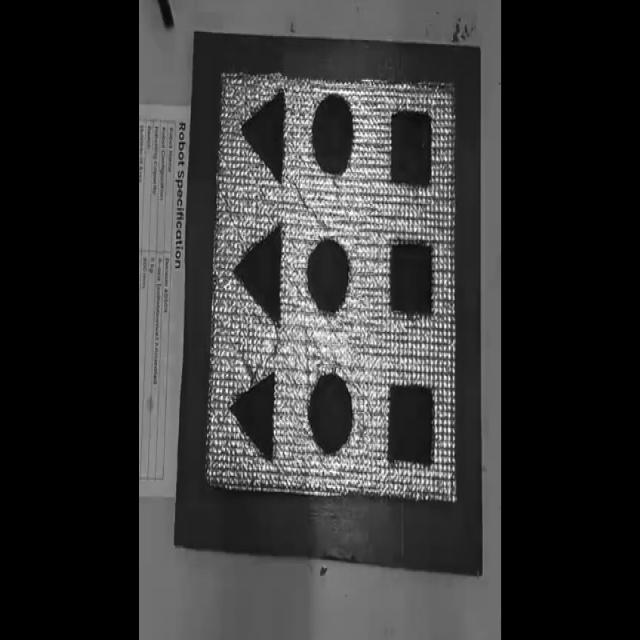mtcircle: (308, 371, 355, 455), (306, 235, 351, 316), (311, 93, 354, 177)
mtcube: (387, 381, 436, 468), (388, 239, 435, 319), (390, 108, 433, 190)
mttriangle: (232, 224, 284, 328), (227, 370, 277, 463), (240, 88, 285, 185)
wb: (205, 69, 458, 505)
